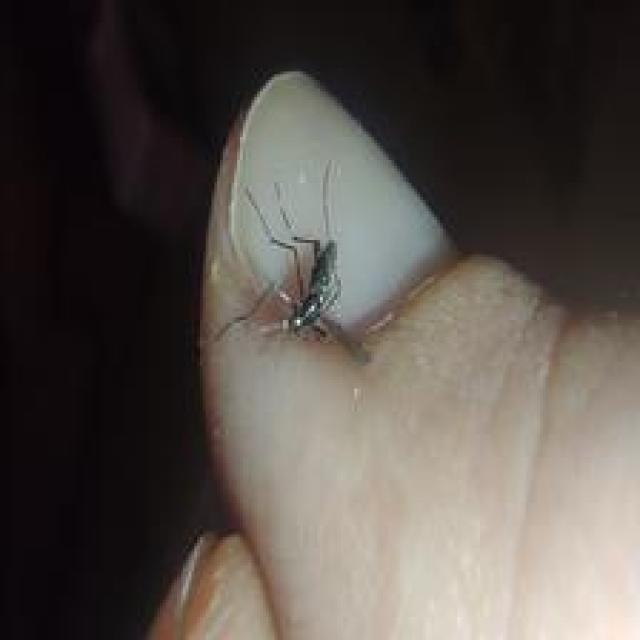Aedes albopictus: (197, 157, 372, 366)
